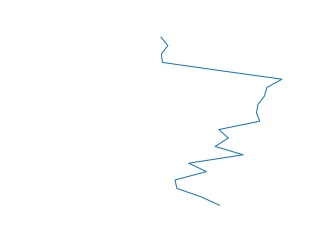floodPlain: (157, 35, 284, 210)
